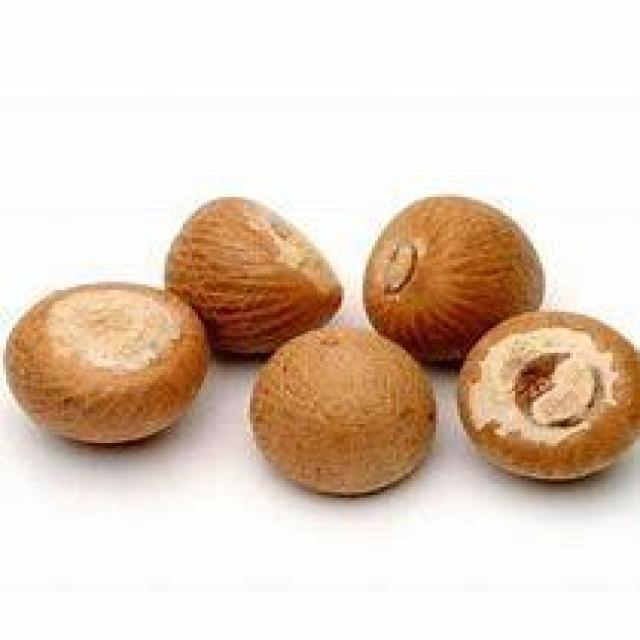good: (3, 284, 213, 449), (250, 331, 433, 498), (457, 312, 637, 481), (369, 200, 546, 366), (162, 200, 344, 358)
